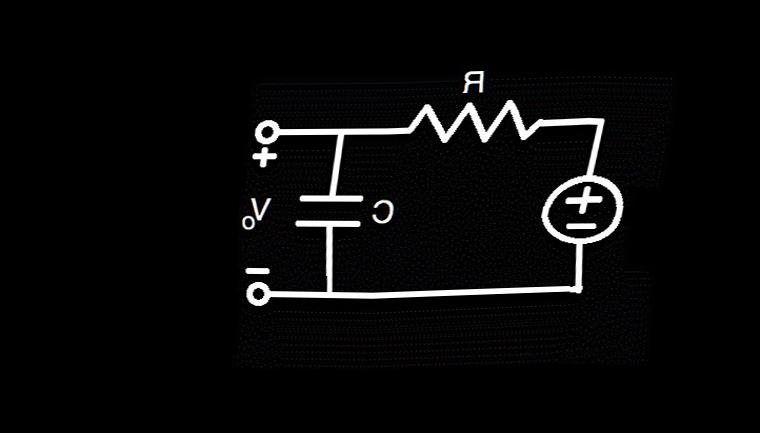Battery: (517, 163, 646, 259)
